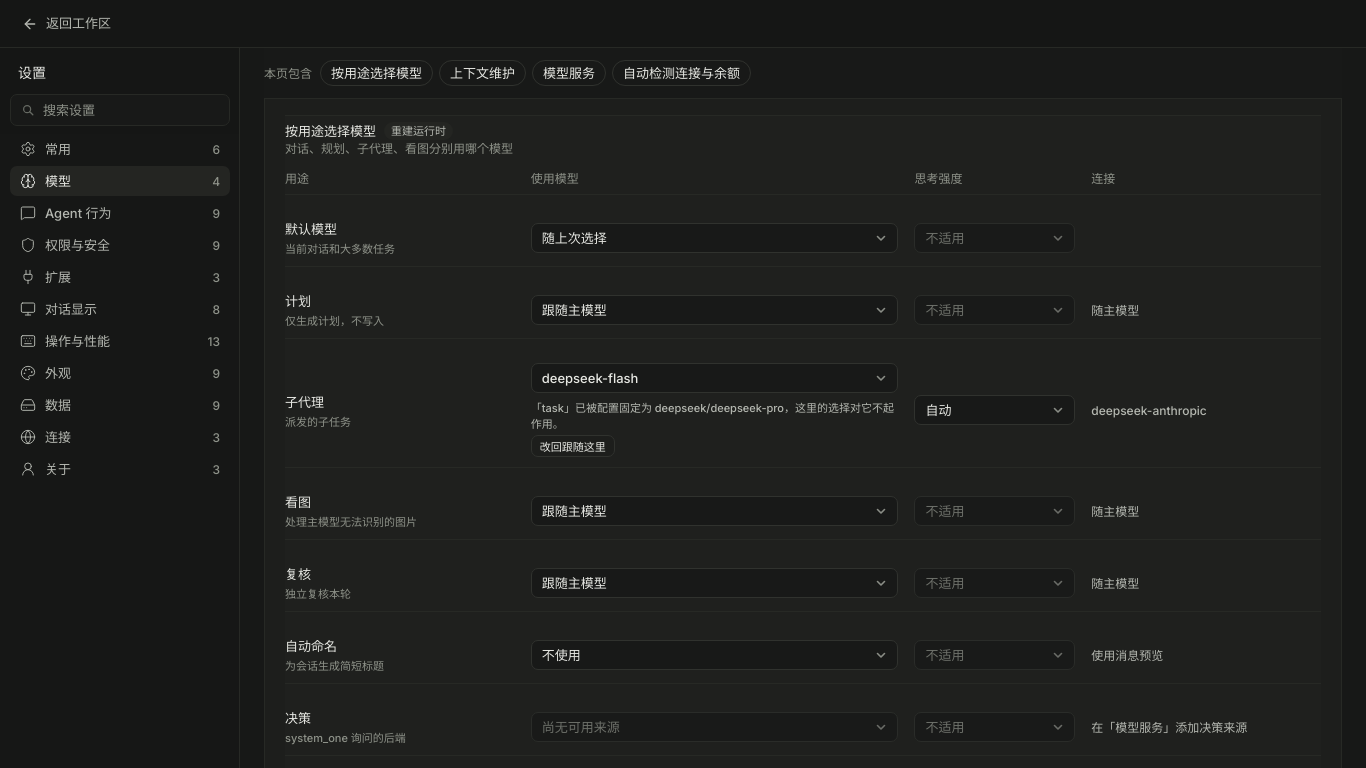
Test: clearing the entry asks the kernel, then reads the overrides again so the note goes
(page scrolled)
Click the button "改回跟随这里" at (573,446), box [531,435,615,457]
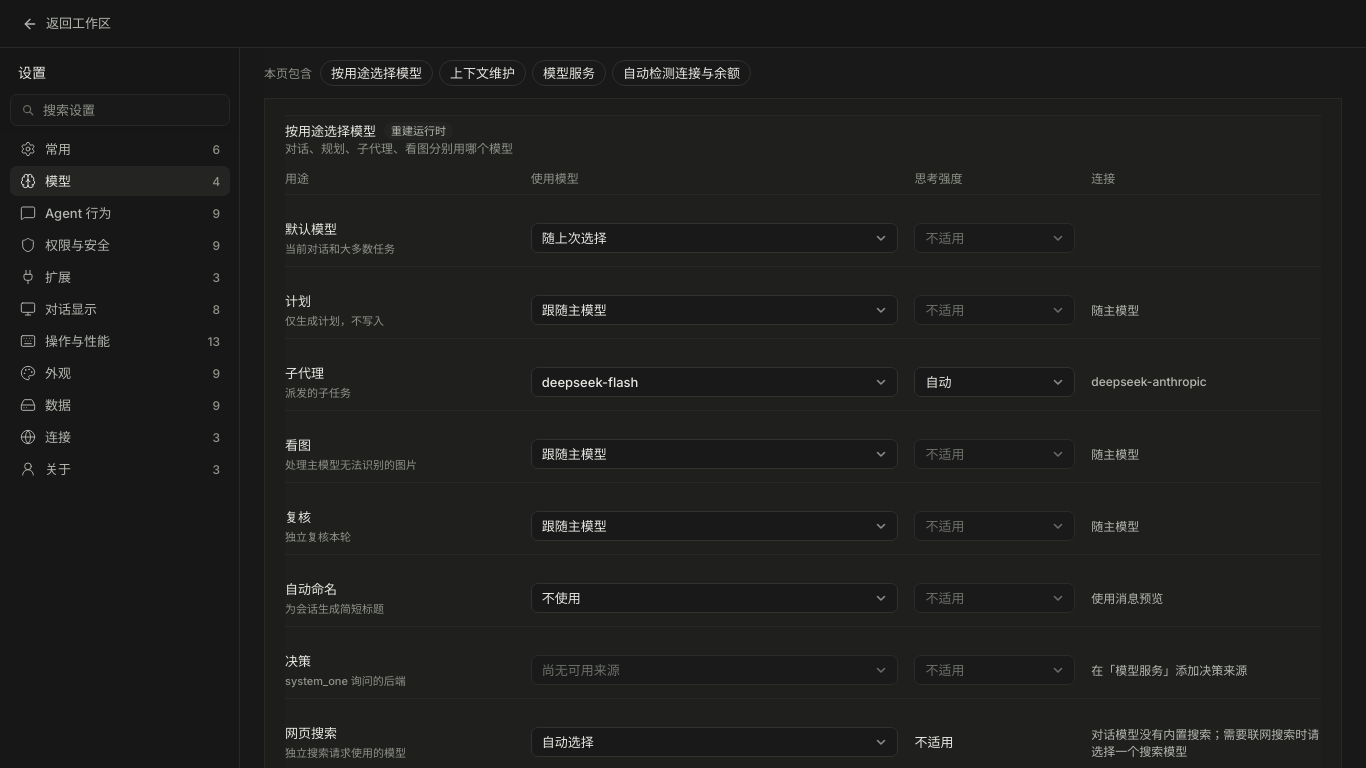
Check: the text "已被配置固定为" is gone
